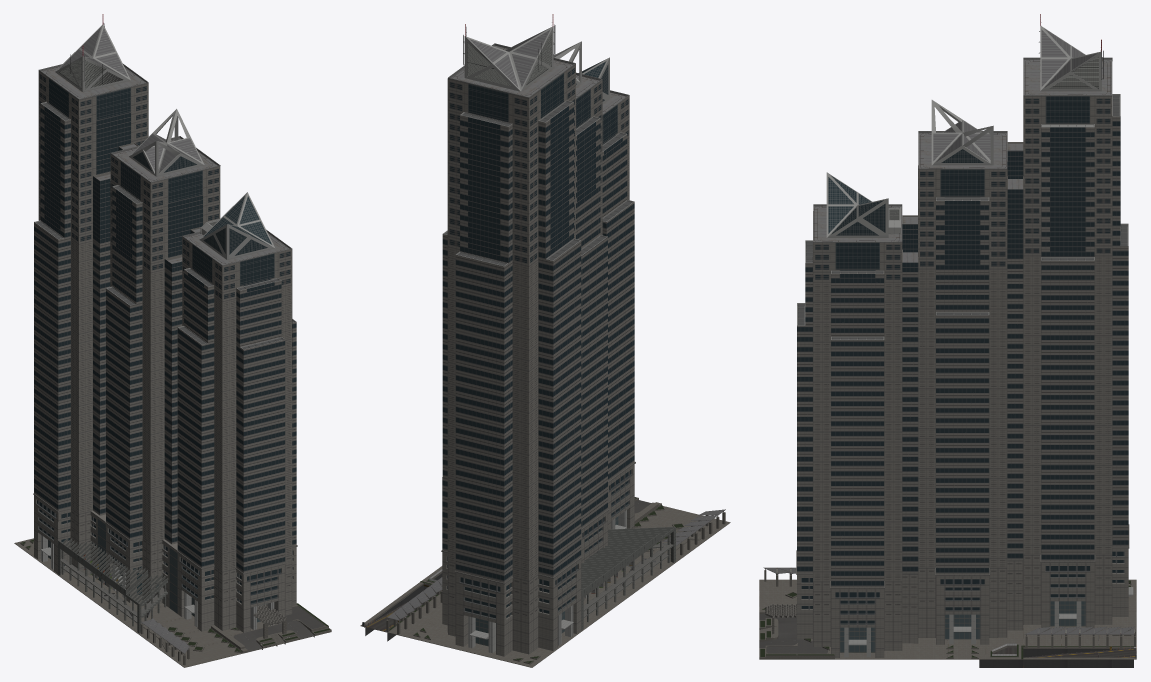
The picture shows the model from 3 angles, left to right: view 1: azimuth 30°, elevation 25°; view 2: azimuth 150°, elevation 25°; view 3: azimuth 270°, elevation 25°; orthographic projection. The views are drawn at different scales.
Visible parts, largest first — view 1: shinjuku; view 2: shinjuku; view 3: shinjuku.
Boxes of the visible parts, x1=… form: shinjuku: x1=14, y1=14, x2=331, y2=667; shinjuku: x1=360, y1=14, x2=730, y2=667; shinjuku: x1=759, y1=14, x2=1136, y2=667.
Bounding box in the file's own units: 6464 × 22073 × 12800.
1 material, 1 textured.
